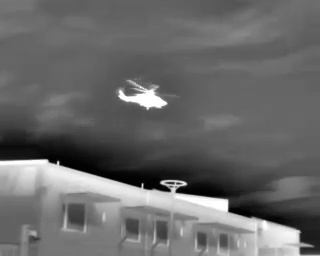HELICOPTER: (113, 74, 183, 118)
